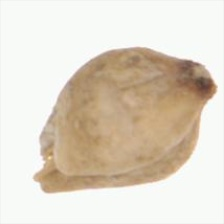L1: (32, 130, 71, 194), (180, 58, 219, 108)
L2: (32, 46, 217, 194)
